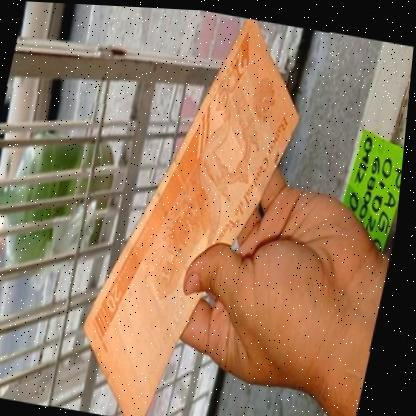twenty-back-vef: (70, 4, 319, 416)
